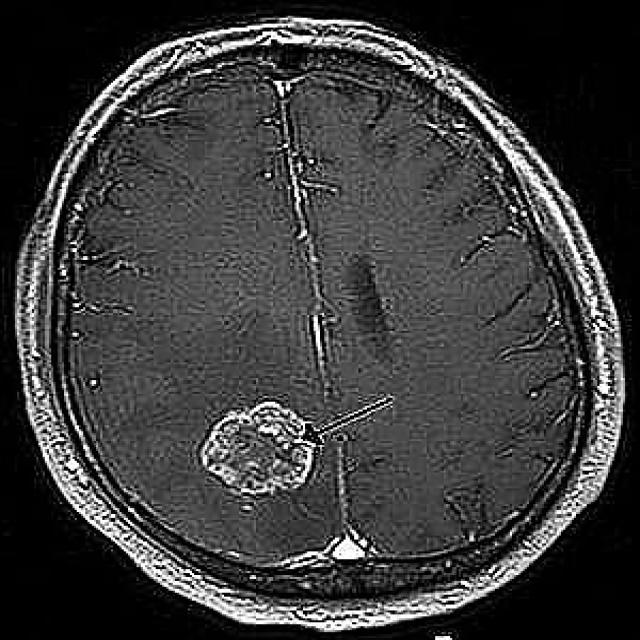Tumor-Cell: (171, 377, 336, 535)
